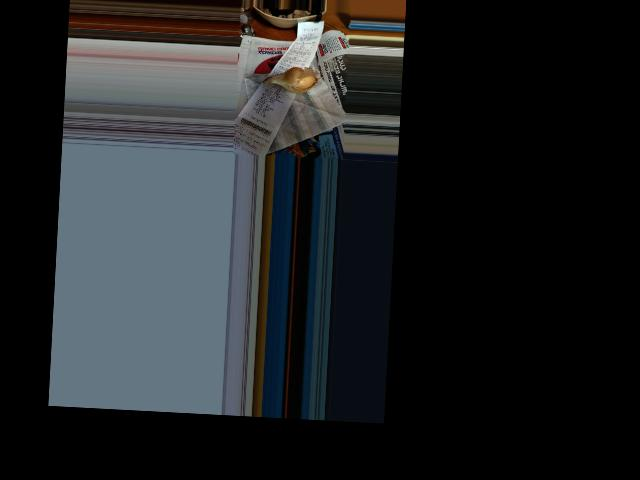onion: (272, 64, 316, 95)
